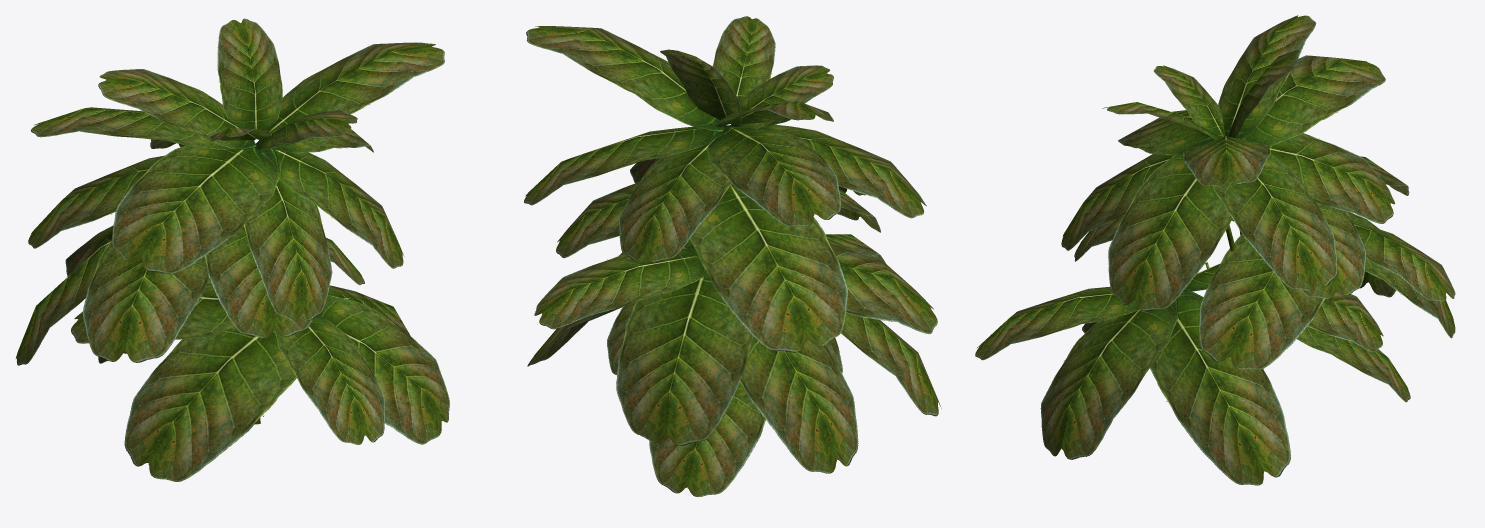
File: m_grass04.fbx
3 renders of one model, left to right at view 1: azimuth 30°, elevation 25°; view 2: azimuth 150°, elevation 25°; view 3: azimuth 270°, elevation 25°, orthographic. The views are drawn at different scales.
Visible parts, largest first — view 1: m_grass04; view 2: m_grass04; view 3: m_grass04.
Boxes of the visible parts, <box> form: m_grass04: <box>16,18,449,481</box>; m_grass04: <box>524,16,941,496</box>; m_grass04: <box>975,15,1455,485</box>.
Size of the model in its own units: 4.64 by 4.35 by 4.97.
